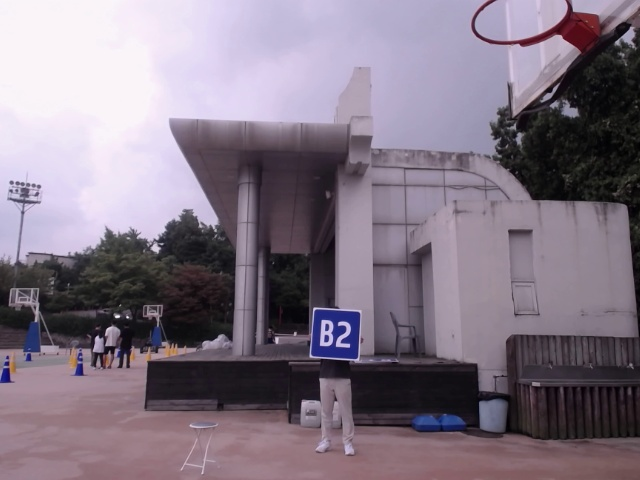delivery_b2: (312, 310, 360, 358)
